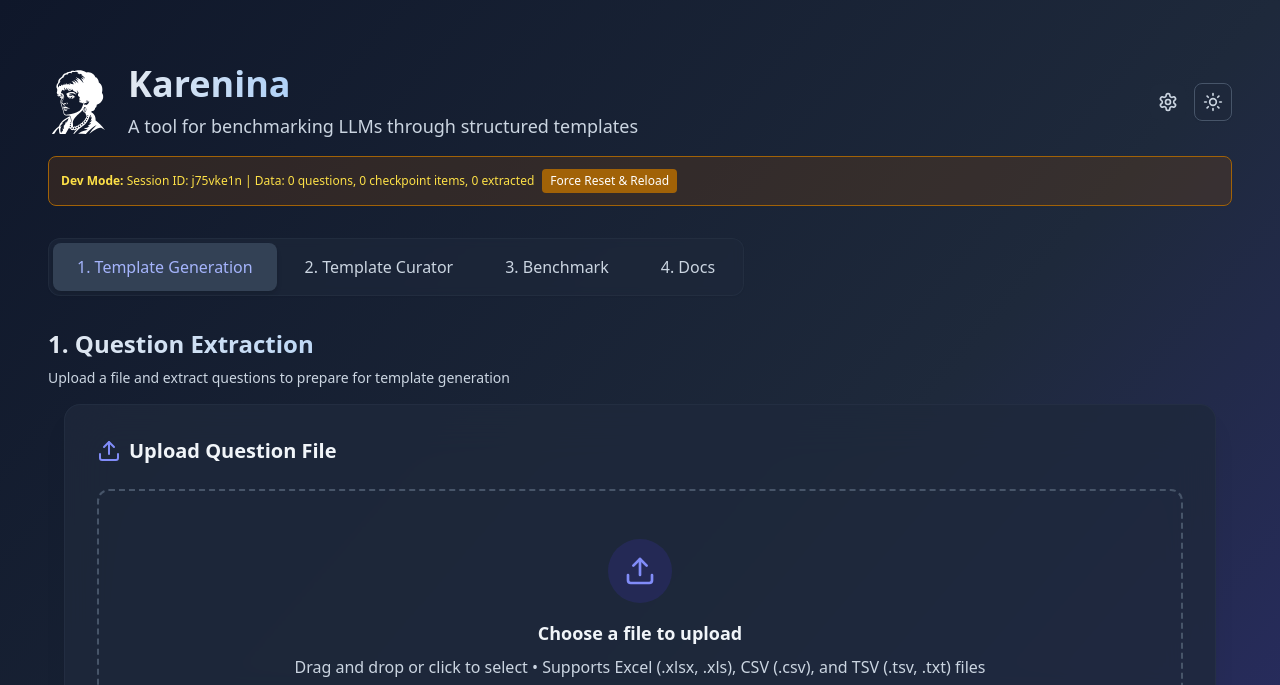
Scenario: App Component › Data Loading and Integration › should handle consecutive checkpoint loading correctly
// Navigate to Template Curator tab
Step 1. Click the button "2. Template Curator" → coordinates (379, 267), box [281,243,477,291]
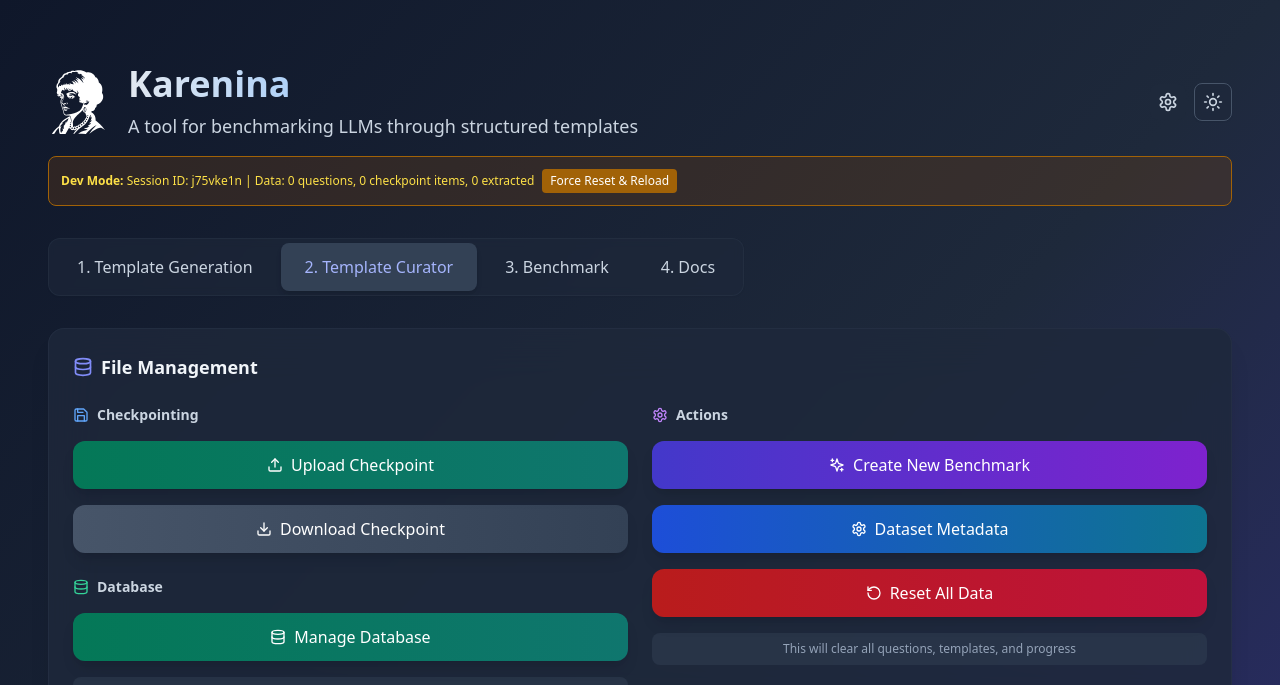
Check: the heading "File Management" is shown, box [73,355,258,379]
// Trigger a re-render to pick up the localStorage change
Step 2. Click the button "1. Template Generation" → coordinates (165, 267), box [53,243,277,291]
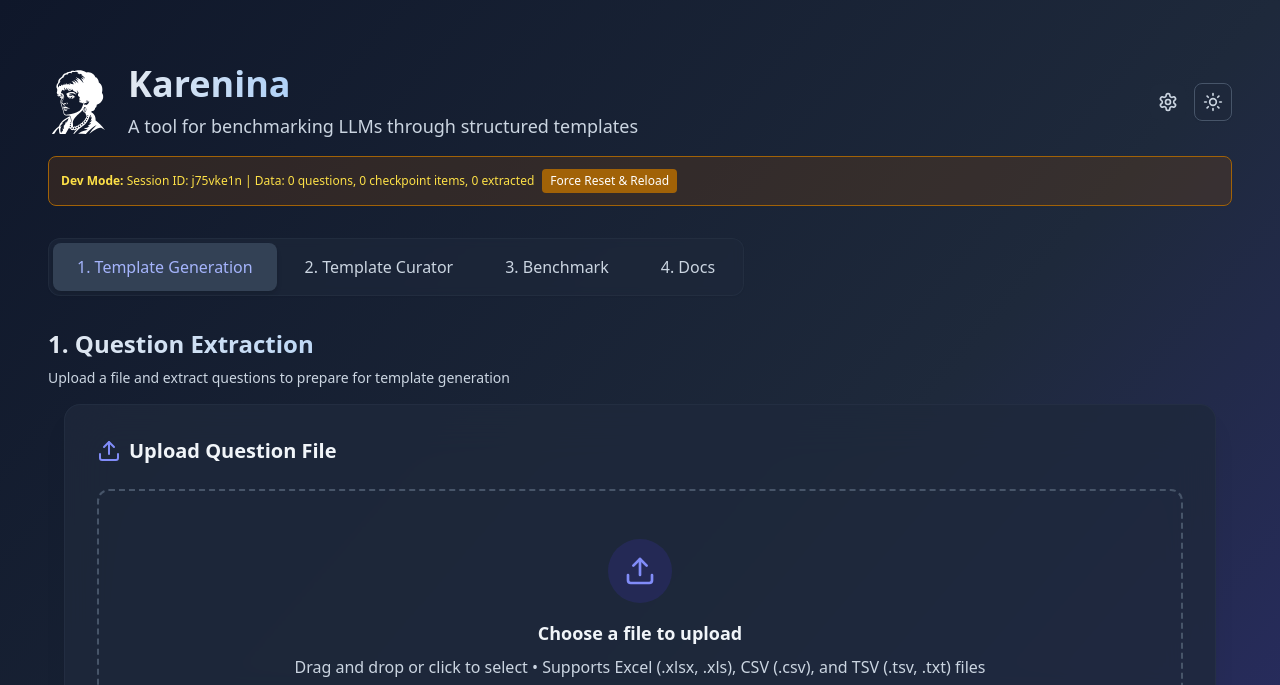
Step 3. Click the button "2. Template Curator" → coordinates (379, 267), box [281,243,477,291]
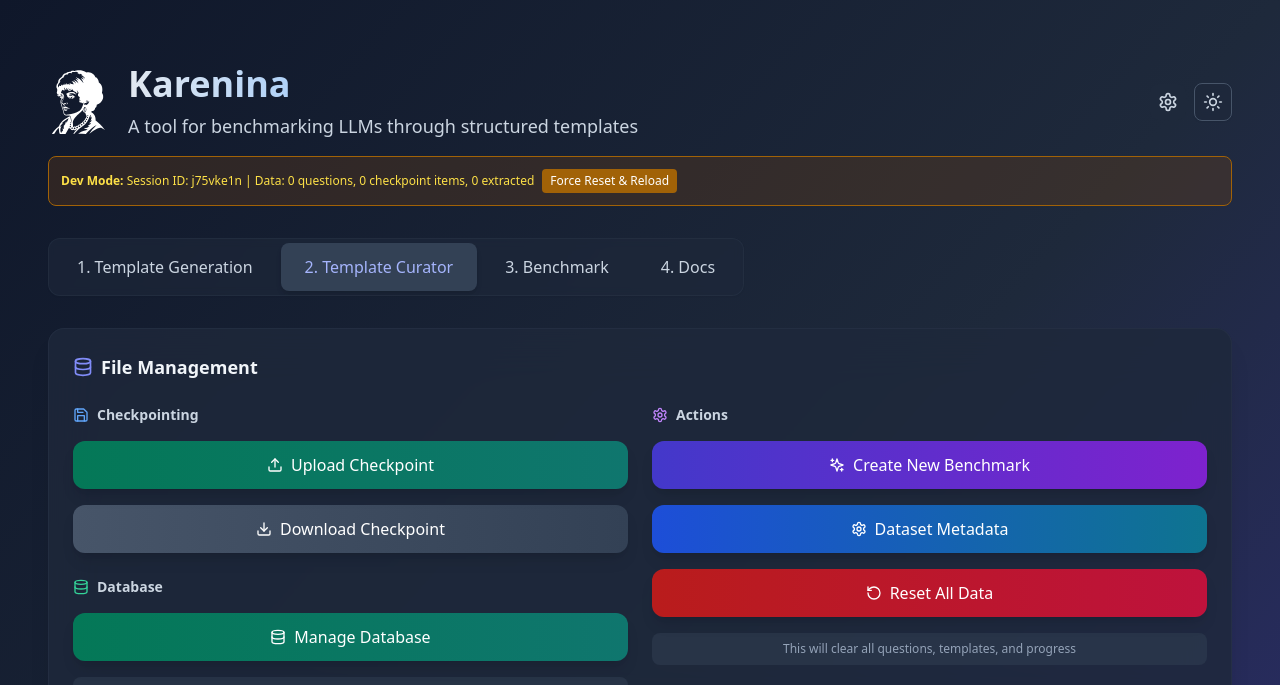
// Trigger another re-render
Step 4. Click the button "1. Template Generation" → coordinates (165, 267), box [53,243,277,291]
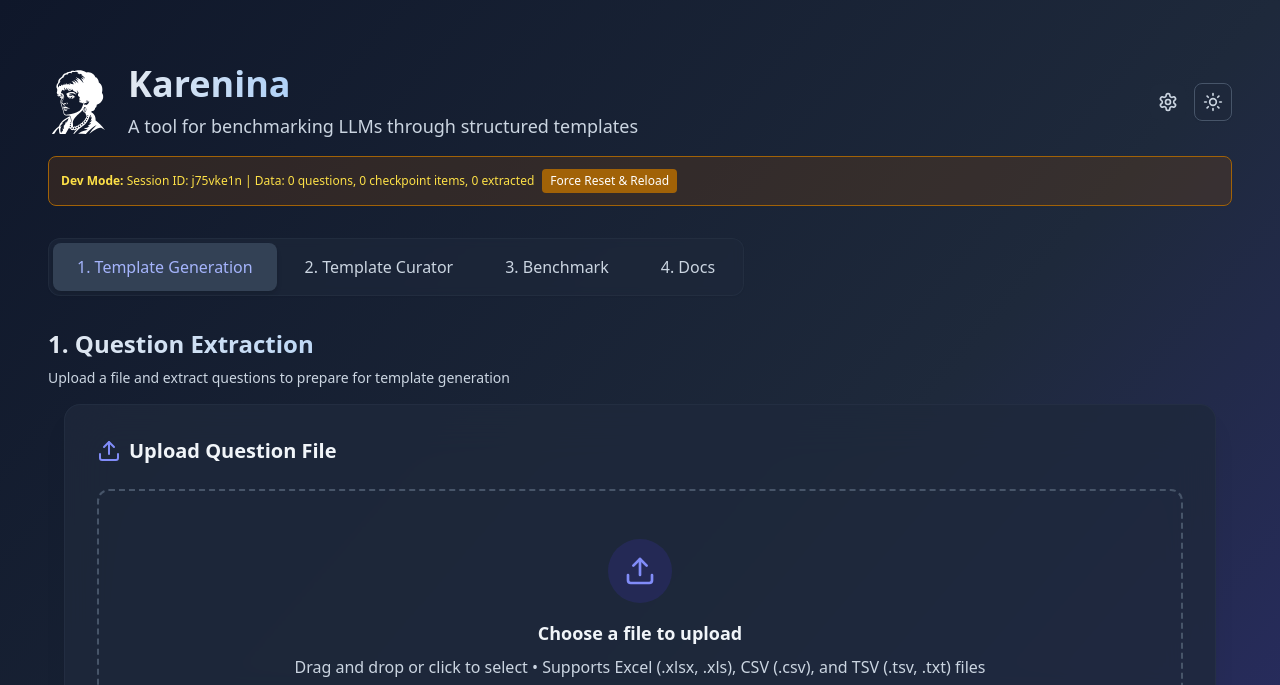
Step 5. Click the button "2. Template Curator" → coordinates (379, 267), box [281,243,477,291]
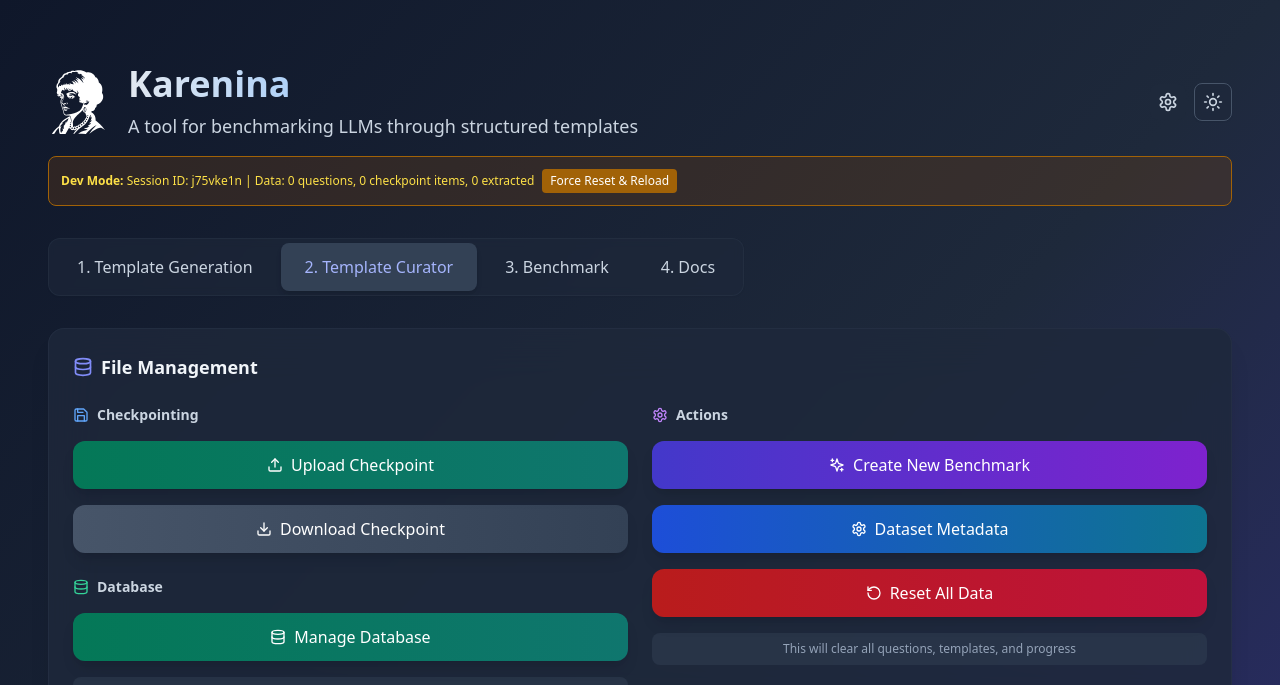
Check: the heading "Karenina" is shown, box [128,64,638,104]
Check: the heading "File Management" is shown, box [73,355,258,379]
